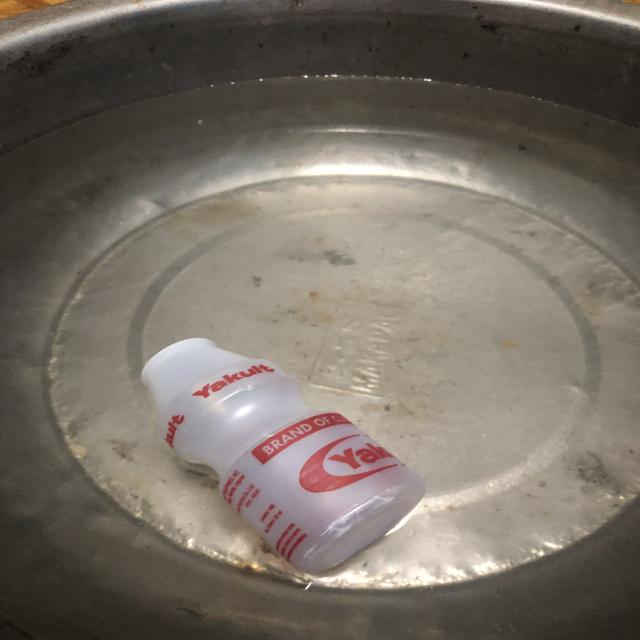Plastic Bottle: (140, 337, 424, 577)
